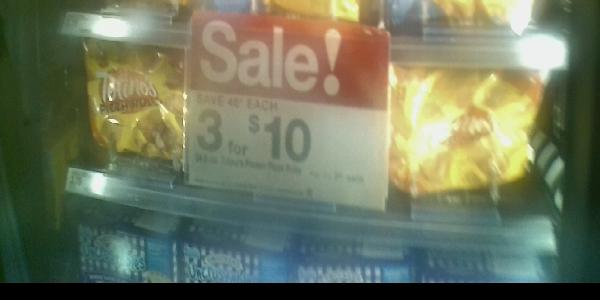icecream: (387, 57, 552, 209), (67, 37, 184, 177)
